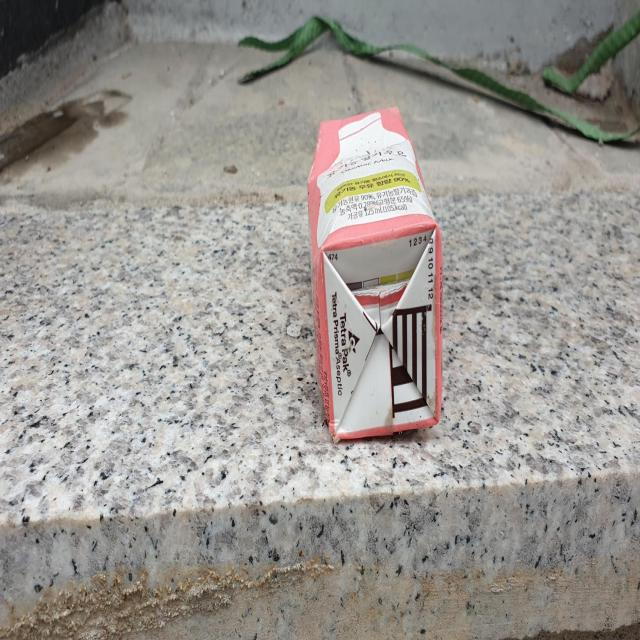paperpack: (308, 106, 443, 439)
